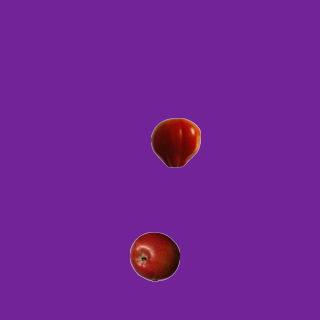Apple Braeburn: (129, 231, 179, 281)
Tomato 1: (150, 117, 200, 167)
